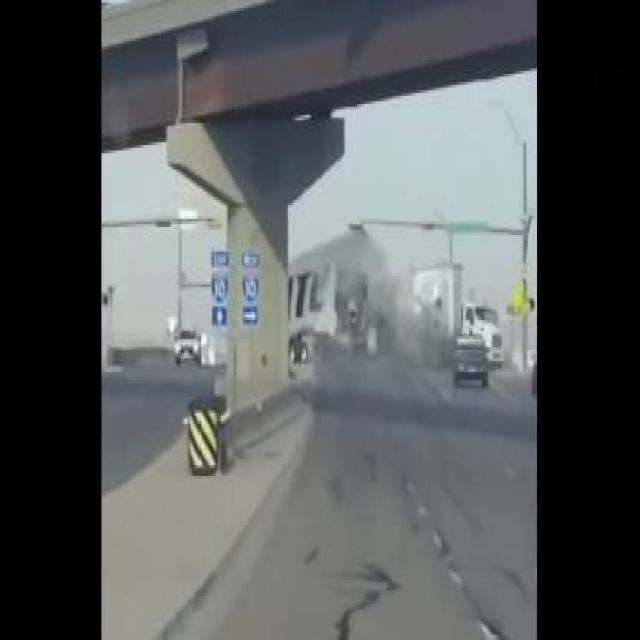accident: (278, 227, 392, 383)
